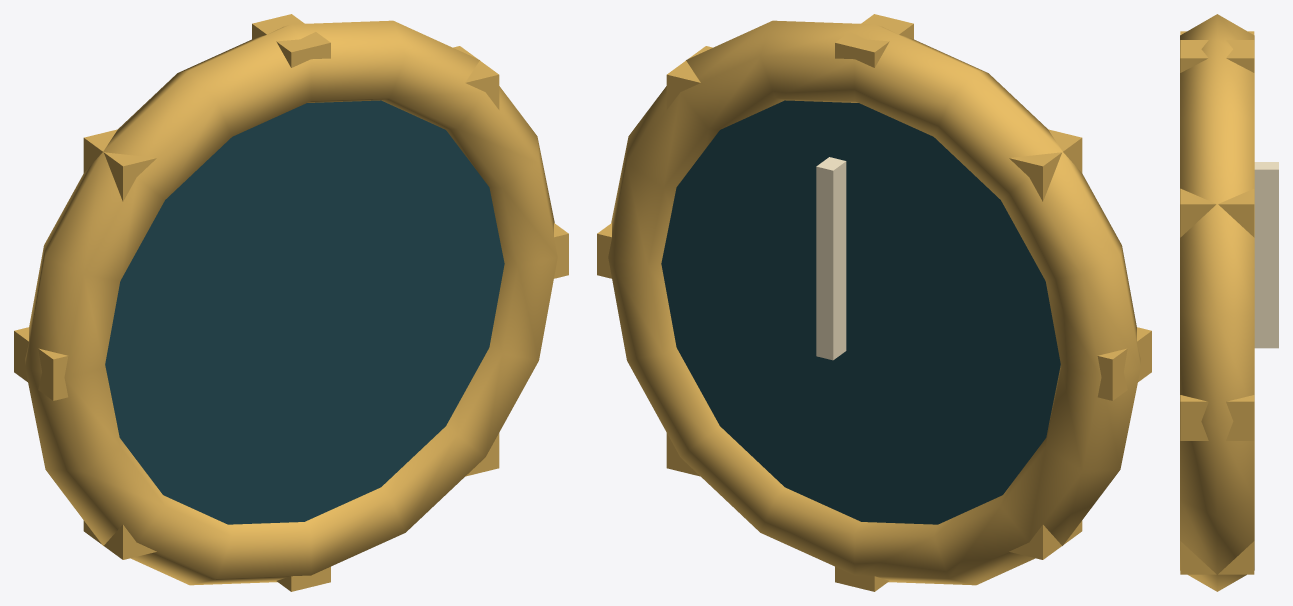
The model's file is discovery-tide-clock.glb.
3 views of the same model, side by side, from view 1: azimuth 30°, elevation 25°; view 2: azimuth 150°, elevation 25°; view 3: azimuth 270°, elevation 25° (orthographic). The views are drawn at different scales.
Parts seen in each view (by area): view 1: clock-face, tide-clock-rim, clock-gear (×5); view 2: clock-face, tide-clock-rim, clock-gear (×5), clock-hand; view 3: tide-clock-rim, clock-gear (×4), clock-hand.
Boxes of the visible parts, x1,y1,x2,y2 form: clock-face: (105,100,504,524); tide-clock-rim: (25,20,557,585); clock-gear (×5): (14,14,499,559); clock-face: (661,100,1060,524); tide-clock-rim: (608,20,1140,585); clock-gear (×5): (666,14,1151,559); clock-hand: (816,157,846,360); tide-clock-rim: (1180,14,1254,591); clock-gear (×4): (1180,40,1254,574); clock-hand: (1254,162,1278,348).
Size of the model in its own units: 4.7 by 4.7 by 0.8031.
